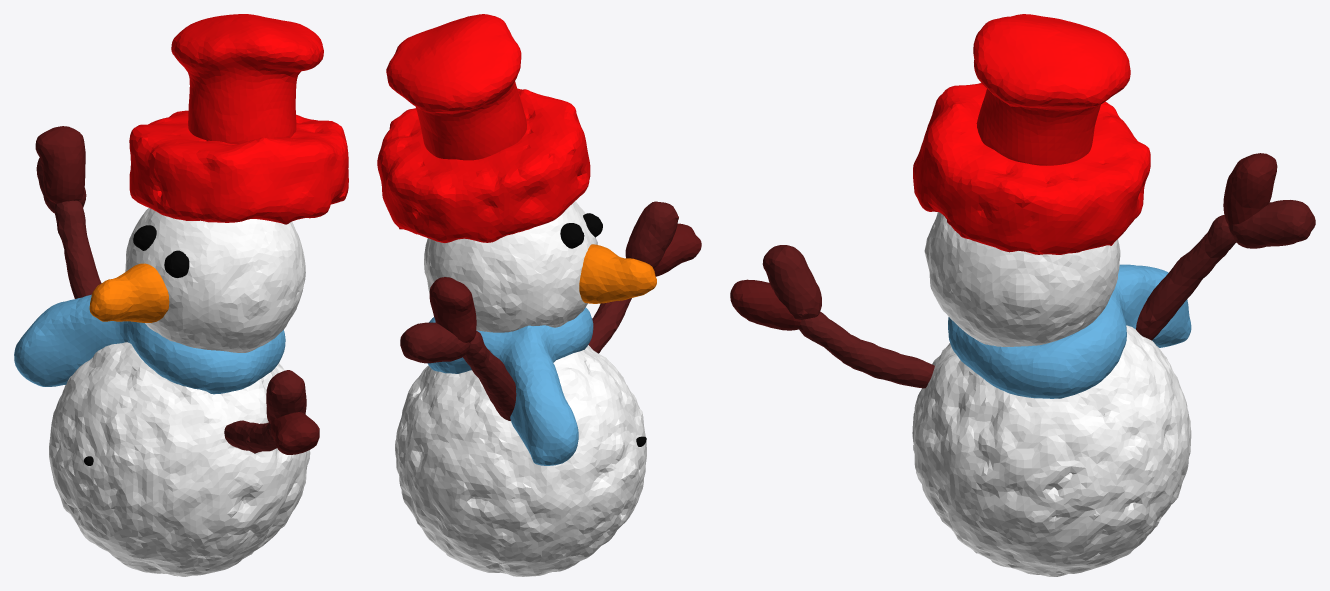
The model's file is snowman_full2.obj.
3 views of the same model, side by side, from view 1: azimuth 30°, elevation 25°; view 2: azimuth 150°, elevation 25°; view 3: azimuth 270°, elevation 25° (orthographic). The views are drawn at different scales.
Size of the model in its own units: 0.3199 by 0.6249 by 0.5802.
